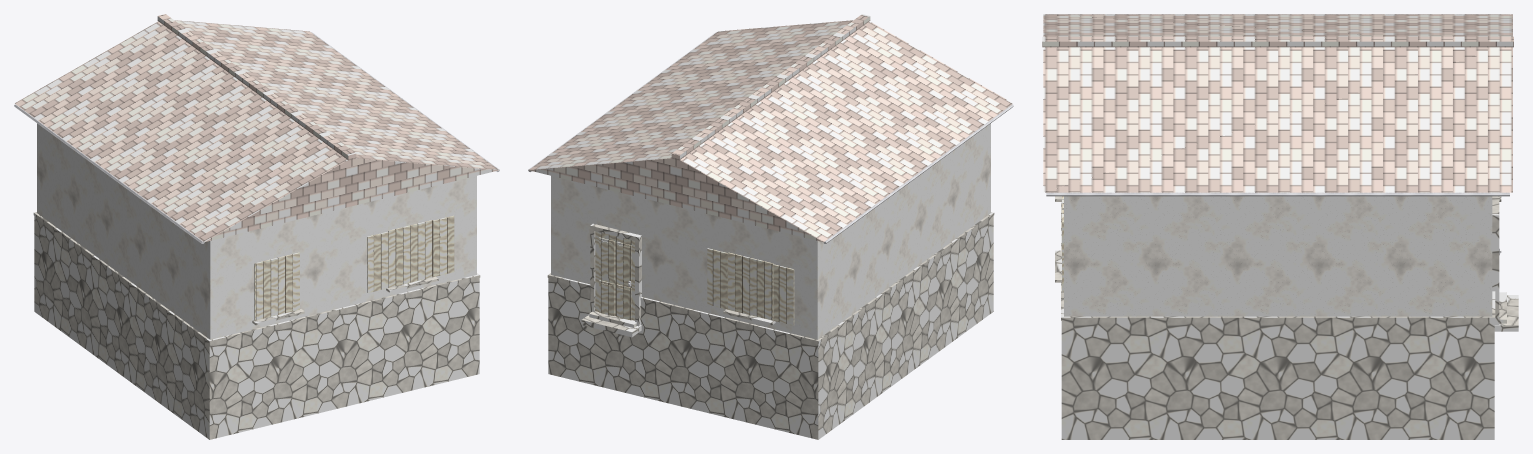
The picture shows the model from 3 angles, left to right: view 1: azimuth 30°, elevation 25°; view 2: azimuth 150°, elevation 25°; view 3: azimuth 270°, elevation 25°; orthographic projection. The views are drawn at different scales.
Parts seen in each view (by area): view 1: b1088806817; view 2: b1088806817; view 3: b1088806817.
Boxes of the visible parts, box(x1,y1,x2,y2) form: b1088806817: box(14, 14, 499, 439); b1088806817: box(528, 14, 1013, 439); b1088806817: box(1042, 14, 1518, 439).
Size of the model in its own units: 7.32 by 6.05 by 8.18.
16 materials, 16 textured.
